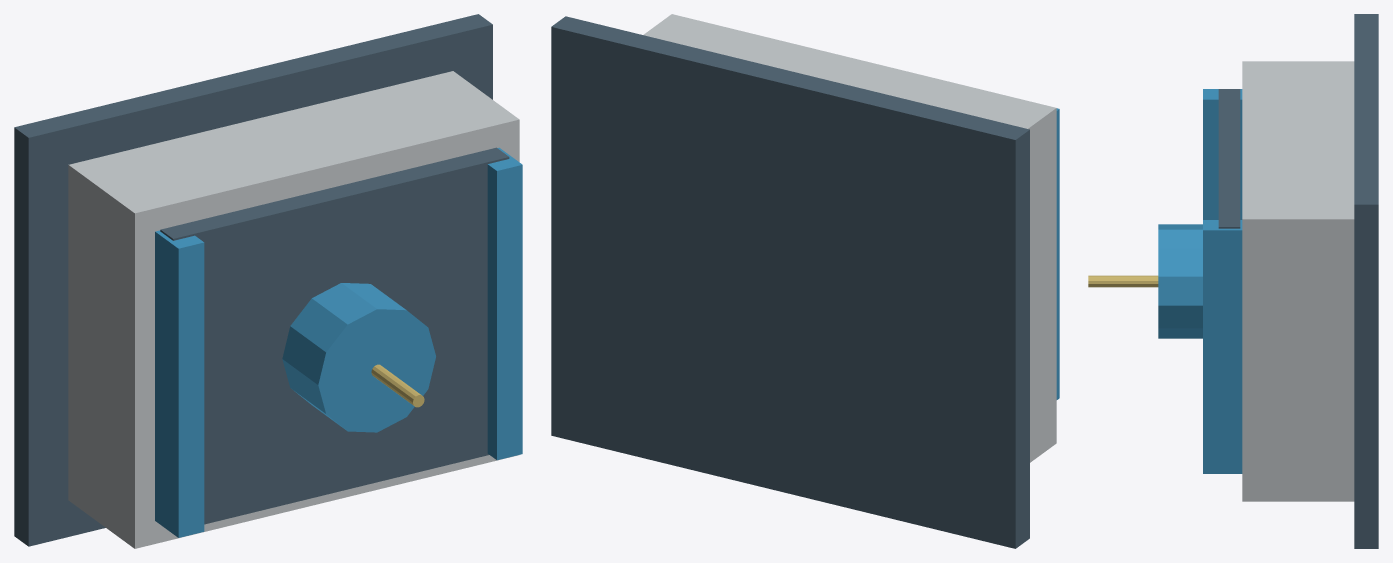
The picture shows the model from 3 angles, left to right: view 1: azimuth 30°, elevation 25°; view 2: azimuth 150°, elevation 25°; view 3: azimuth 270°, elevation 25°; orthographic projection. The views are drawn at different scales.
Visible parts, largest first — view 1: roof, main_structure, foundation, radar, support_-2.16, support_2.16, antenna; view 2: foundation, main_structure, support_-2.16; view 3: main_structure, foundation, support_2.16, radar, roof, support_-2.16, antenna.
Part boxes in pixels (<box>): roof: <box>160,147,509,524</box>; main_structure: <box>68,71,519,548</box>; foundation: <box>14,14,492,546</box>; radar: <box>282,283,435,432</box>; support_-2.16: <box>155,230,204,537</box>; support_2.16: <box>487,147,522,460</box>; antenna: <box>371,364,424,407</box>; foundation: <box>551,16,1029,548</box>; main_structure: <box>643,14,1056,462</box>; support_-2.16: <box>1056,108,1059,399</box>; main_structure: <box>1242,61,1354,501</box>; foundation: <box>1354,14,1378,548</box>; support_2.16: <box>1203,220,1242,473</box>; radar: <box>1158,224,1202,338</box>; roof: <box>1218,89,1240,228</box>; support_-2.16: <box>1203,89,1242,219</box>; antenna: <box>1088,275,1158,287</box>.
Bounding box in the file's own units: 6.3 × 5.3 × 4.05.
